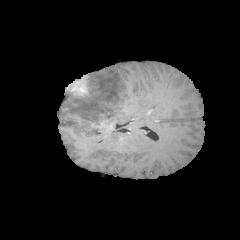glioma: (66, 68, 129, 130)
